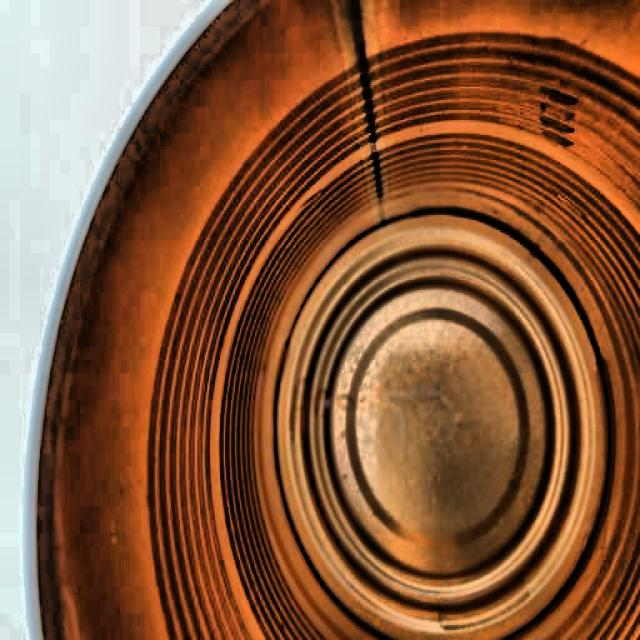metal: (30, 6, 640, 640)
